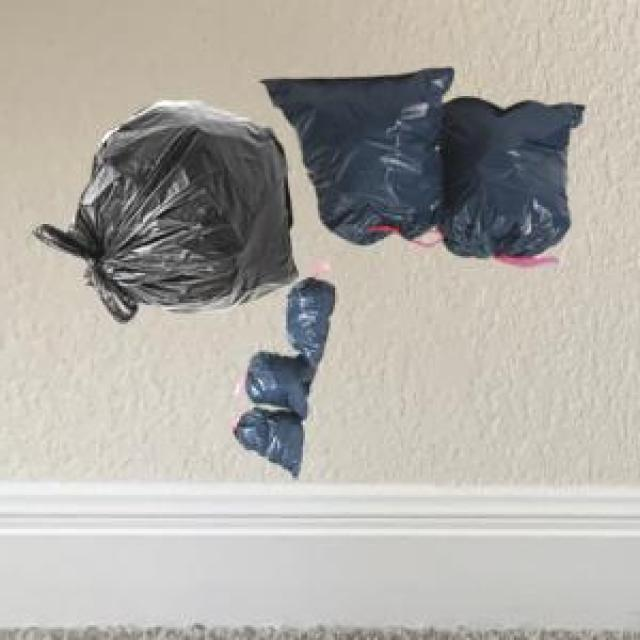Trashbag: (74, 98, 293, 318), (262, 60, 460, 256), (439, 90, 602, 272), (232, 401, 307, 472), (284, 271, 344, 355), (241, 346, 316, 411)
